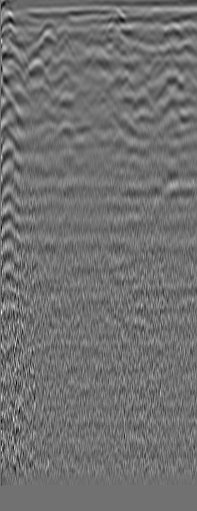오수: (10, 21, 30, 41)
우수: (161, 22, 181, 42)
